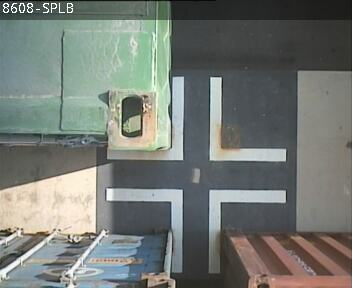groundmarker_1: (106, 76, 286, 160), (106, 188, 285, 271)
